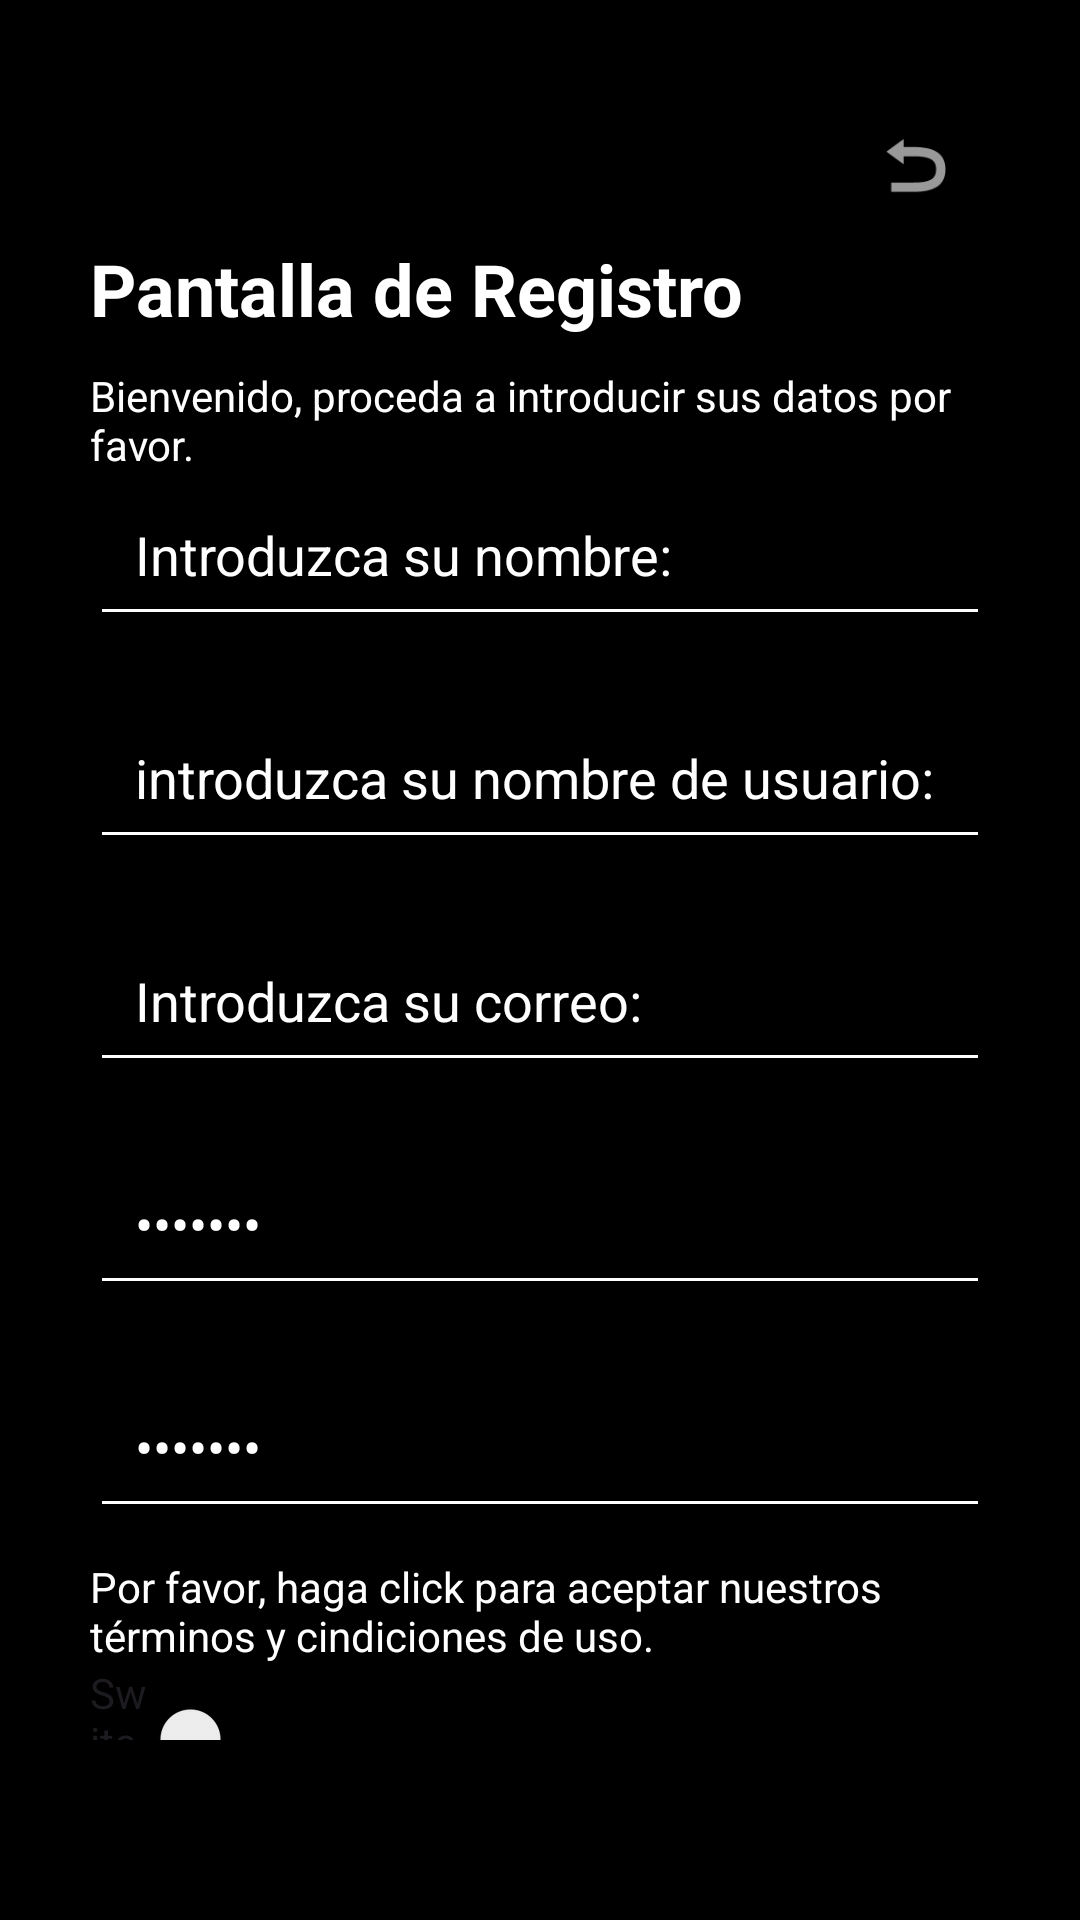

Named icons in this screenshot (1080x1920) and their bounding boxes, (x1, y1, x2, y2):
volver atras: (886, 139, 946, 192)
